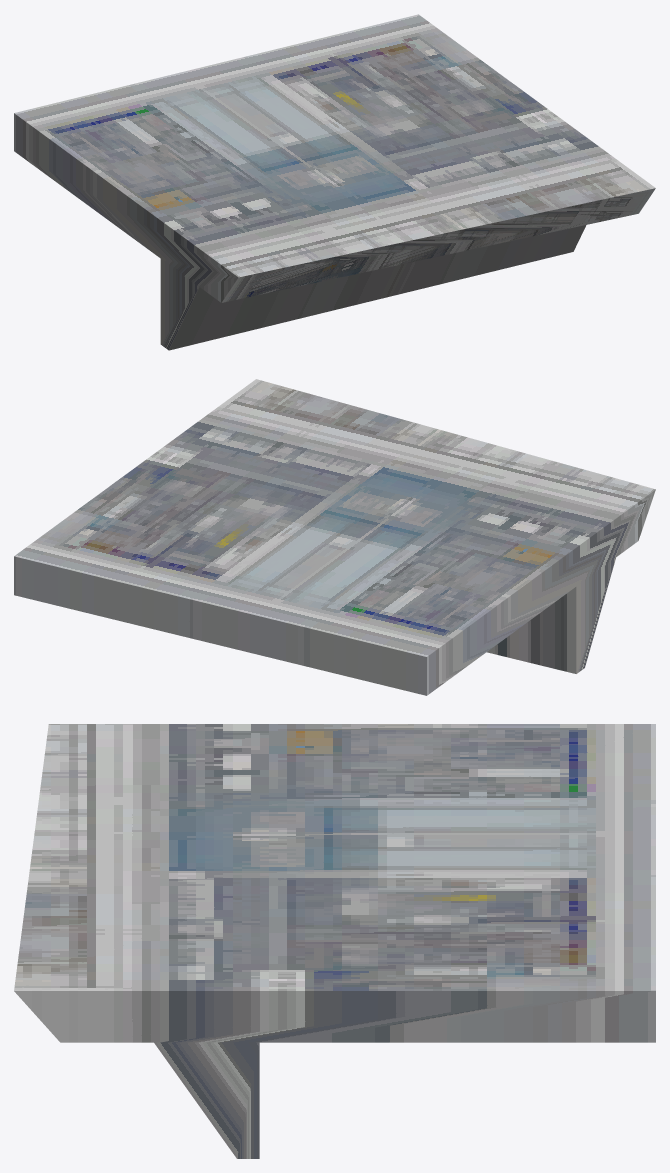
The model's file is 018_highriserWall_cell_003.gltf.
3 views of the same model, one above another, from view 1: azimuth 30°, elevation 25°; view 2: azimuth 150°, elevation 25°; view 3: azimuth 270°, elevation 25° (orthographic). The views are drawn at different scales.
Visible parts, largest first — view 1: highriserWall_cell_003; view 2: highriserWall_cell_003; view 3: highriserWall_cell_003.
Boxes of the visible parts, left/top/right/bottom form: highriserWall_cell_003: left=14, top=14, right=655, bottom=350; highriserWall_cell_003: left=14, top=379, right=655, bottom=695; highriserWall_cell_003: left=14, top=724, right=655, bottom=1158.
Bounding box in the file's own units: 4.09 × 1.2 × 4.16.
2 materials, 2 textured.
